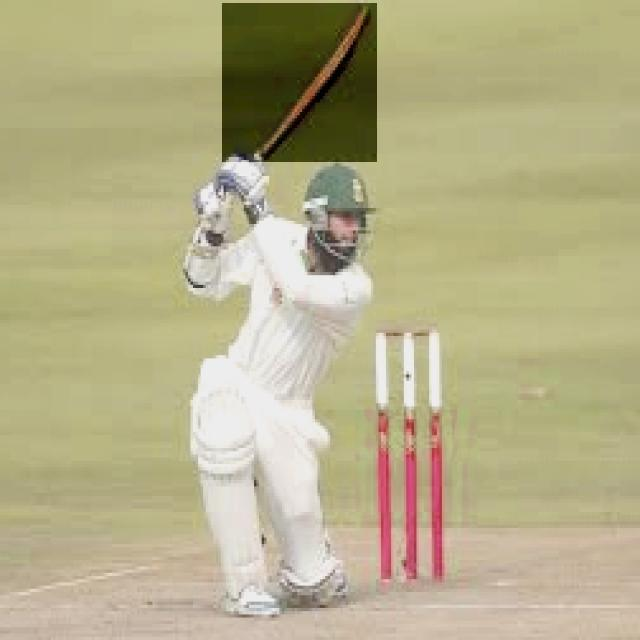bat: (224, 0, 378, 163)
